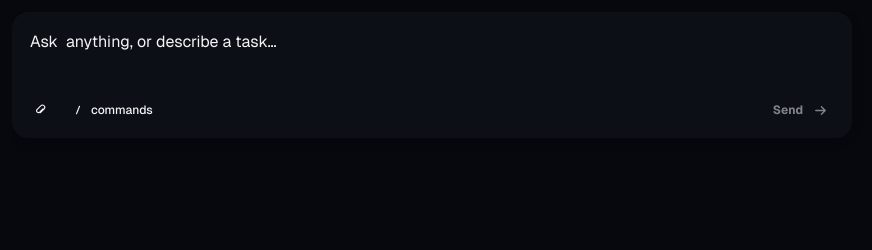
Test: Composer — slash menu keyboard navigation › Enter picks the highlighted command instead of sending
The image size is (872, 250).
Step 1. Type "/c" into the text box with placeholder "Ask anything, or describe a task…" → coordinates (432, 50), box [12,12,852,88]
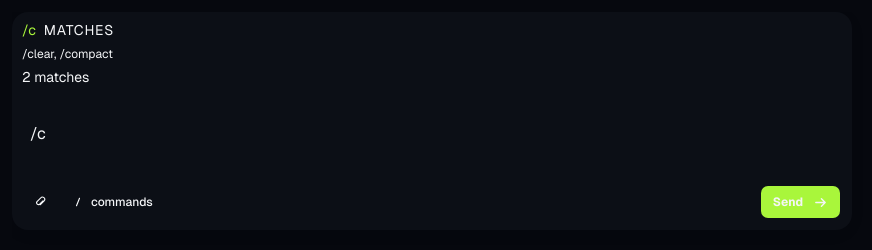
Step 2. Press ArrowDown in the text box named "Message", box [12,104,852,180]
Step 3. Press Enter in the text box named "Message", box [12,104,852,180]
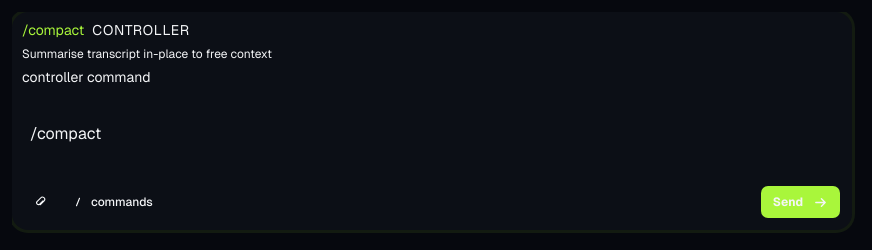
Expected: the text box named "Message" holds "/compact ", [12,104,852,180]
